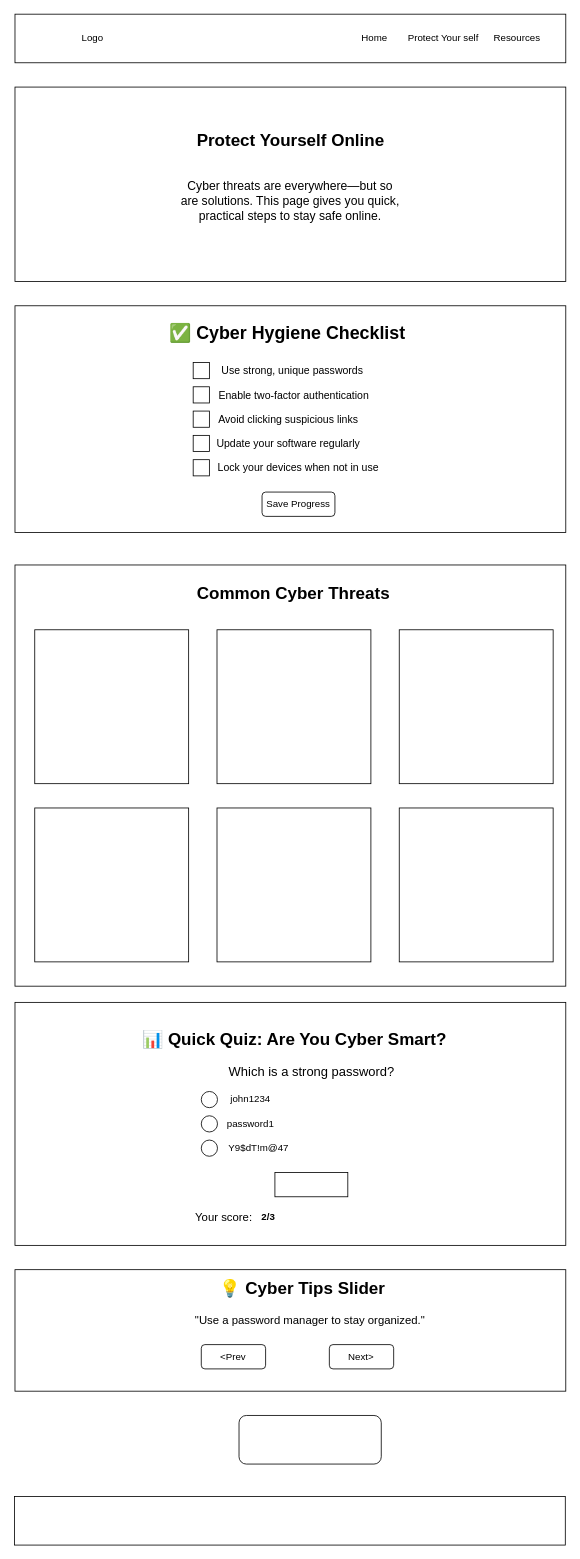
The diagram is 580 pixels wide and 1559 high, and some of its shapes have lost their labels. The shapes that lost their labels are listed below. From the top down, each one's box as (x1, y1, x2, y2) in pixels, then its label:
(274, 1172, 348, 1197): Next Question
(238, 1415, 381, 1464): Explore Tools & Resources
